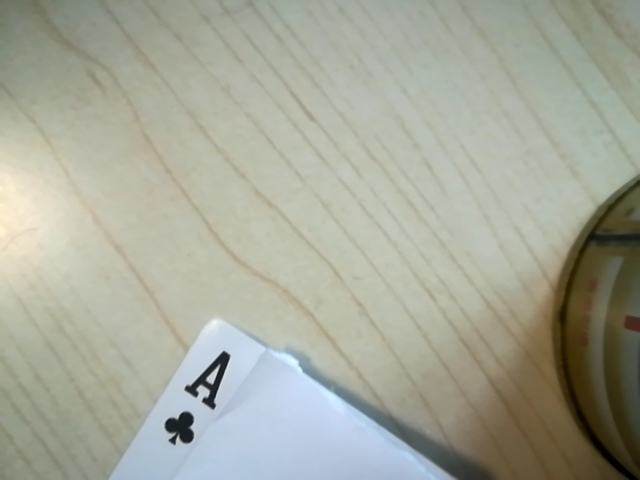mh a: (151, 344, 241, 461)
